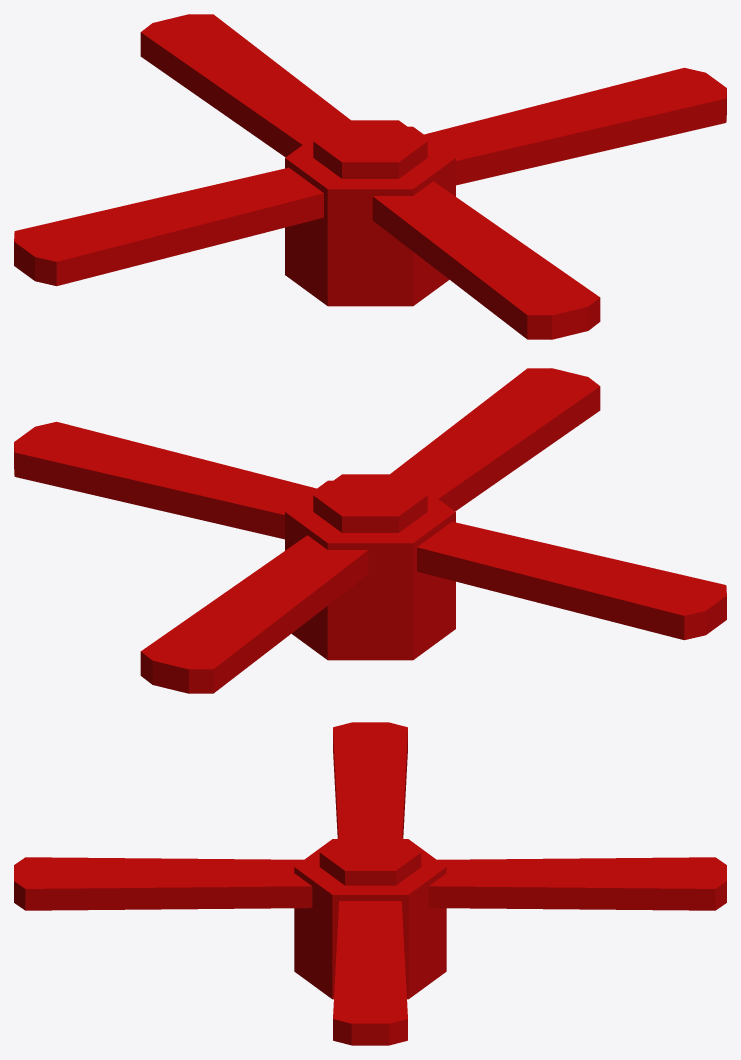
The model's file is Prop_Industrial_Pipe_Valve_Handle_02.FBX.
3 renders of one model, top to bottom at view 1: azimuth 30°, elevation 25°; view 2: azimuth 150°, elevation 25°; view 3: azimuth 270°, elevation 25°, orthographic. The views are drawn at different scales.
Visible parts, largest first — view 1: Prop_Industrial_Pipe_Valve_Handle_02; view 2: Prop_Industrial_Pipe_Valve_Handle_02; view 3: Prop_Industrial_Pipe_Valve_Handle_02.
Boxes of the visible parts, bbox=[...] form: Prop_Industrial_Pipe_Valve_Handle_02: bbox=[14, 14, 726, 339]; Prop_Industrial_Pipe_Valve_Handle_02: bbox=[14, 368, 726, 693]; Prop_Industrial_Pipe_Valve_Handle_02: bbox=[14, 722, 726, 1045].
Size of the model in its own units: 786 by 145 by 786.
